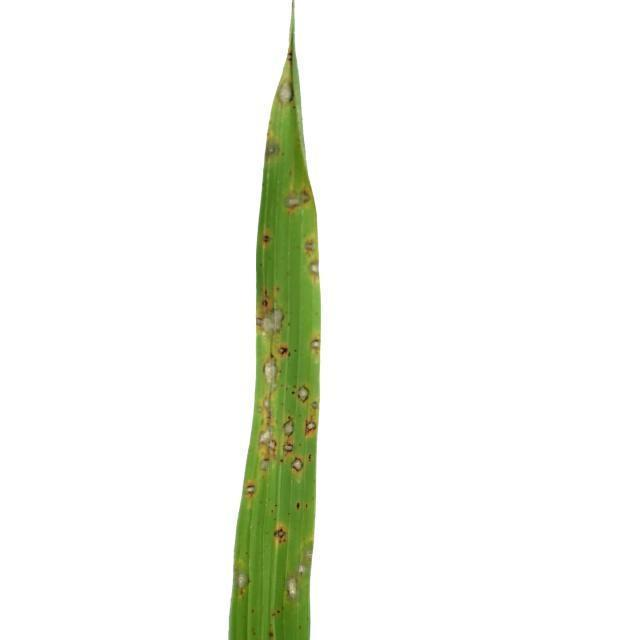Leaf_Blast: (260, 358, 279, 461), (259, 287, 284, 342), (300, 238, 321, 289), (288, 569, 303, 613), (286, 184, 307, 213), (275, 79, 293, 111), (289, 454, 304, 484), (299, 377, 310, 409), (283, 418, 296, 443), (262, 228, 274, 250), (309, 334, 321, 355), (306, 414, 316, 438), (246, 482, 259, 499), (279, 524, 289, 543), (278, 346, 290, 360)
